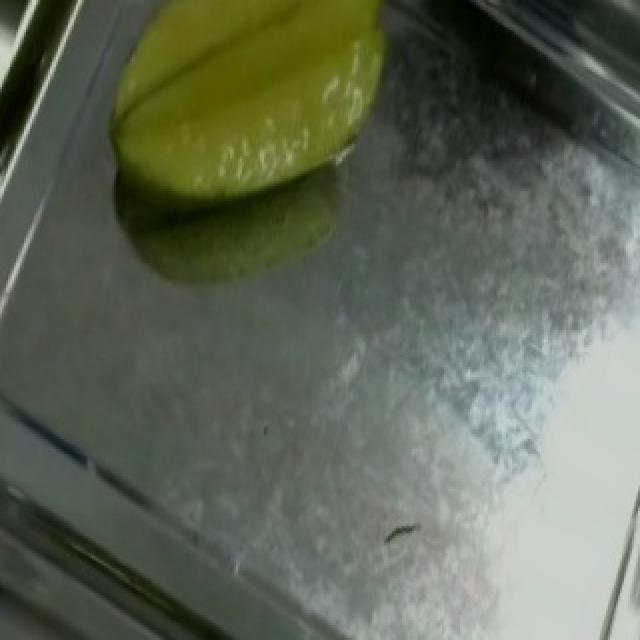fruit: (70, 3, 444, 253)
